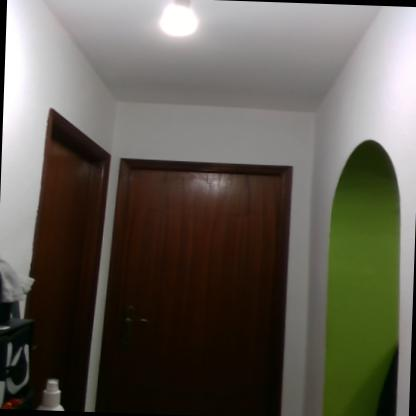closed: (91, 142, 308, 415), (32, 100, 107, 412)
